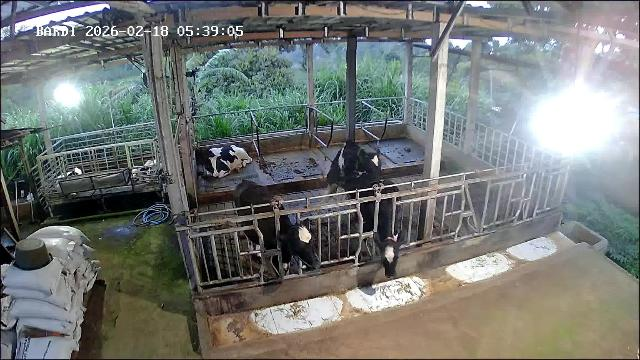mounting: (310, 142, 383, 225)
